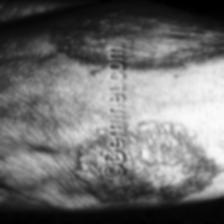Unclassified: (74, 126, 208, 204)
